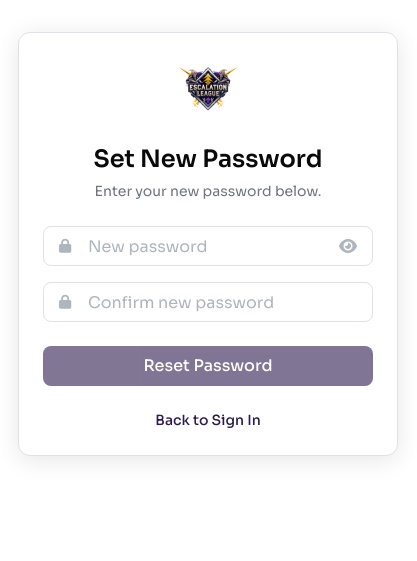
Test: ResetPassword › form submission › should show error message on API failure
The image size is (417, 561).
Step 1. Type "validpassword123" into the password field with placeholder "New password" → [208, 246], box [43,226,373,266]
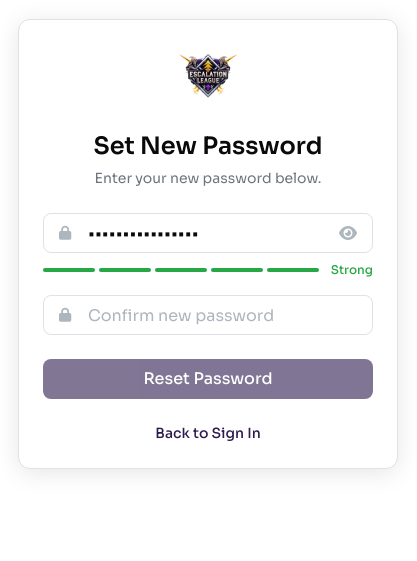
Step 2. Type "validpassword123" into the password field with placeholder "Confirm new password" → [208, 315], box [43,295,373,335]
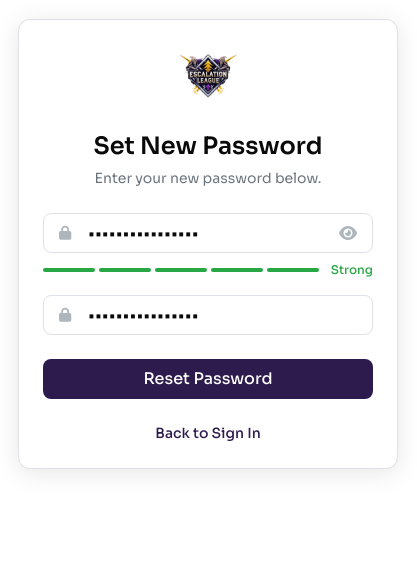
Step 3. Click the button "Reset Password" → [208, 379], box [43,359,373,399]
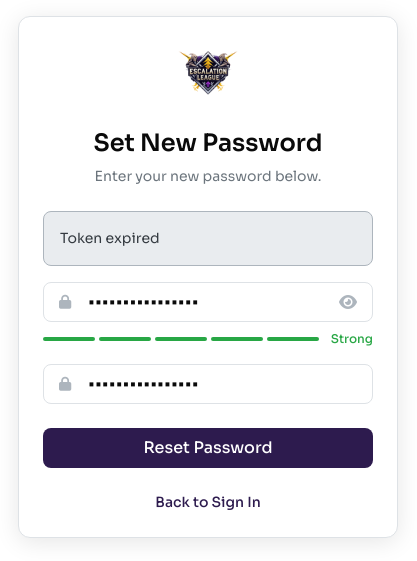
Expected: the text "Token expired" is shown, [43,211,373,266]
